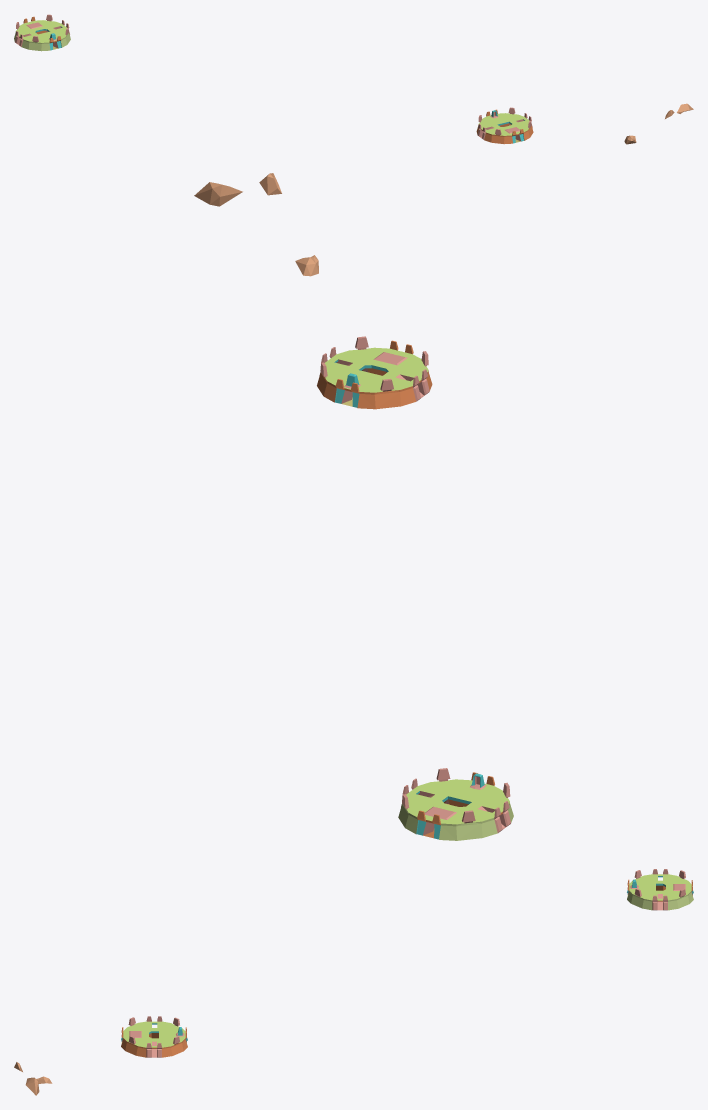
The model's file is level_collision_metal.fbx.
3 views of the same model, one above another, from view 1: azimuth 30°, elevation 25°; view 2: azimuth 150°, elevation 25°; view 3: azimuth 270°, elevation 25° (orthographic). The views are drawn at different scales.
Visible parts, largest first — view 1: level_collision_metal; view 2: level_collision_metal; view 3: level_collision_metal.
Part boxes in pixels (x1,y1,x2,y2): level_collision_metal: (14, 14, 693, 144); level_collision_metal: (194, 173, 513, 840); level_collision_metal: (14, 869, 693, 1095).
Bounding box in the file's own units: 915698 × 83448 × 1080955.
